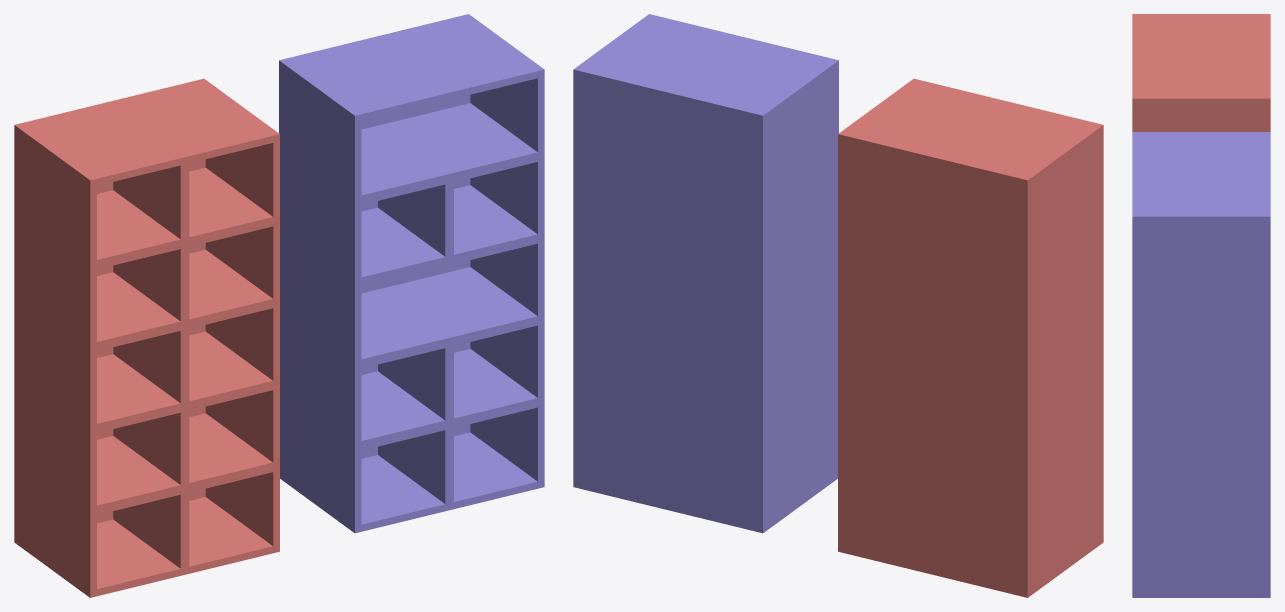
The model's file is props.fbx.
3 views of the same model, side by side, from view 1: azimuth 30°, elevation 25°; view 2: azimuth 150°, elevation 25°; view 3: azimuth 270°, elevation 25° (orthographic). The views are drawn at different scales.
Parts seen in each view (by area): view 1: wardrobe, wardrobe2; view 2: wardrobe, wardrobe2; view 3: wardrobe2, wardrobe.
Part boxes in pixels (left/top/right/bottom): wardrobe: left=14, top=78, right=279, bottom=597; wardrobe2: left=279, top=14, right=544, bottom=533; wardrobe: left=838, top=78, right=1103, bottom=597; wardrobe2: left=573, top=14, right=838, bottom=533; wardrobe2: left=1132, top=132, right=1270, bottom=597; wardrobe: left=1132, top=14, right=1270, bottom=131.
Bounding box in the file's own units: 170 × 149 × 49.08.
